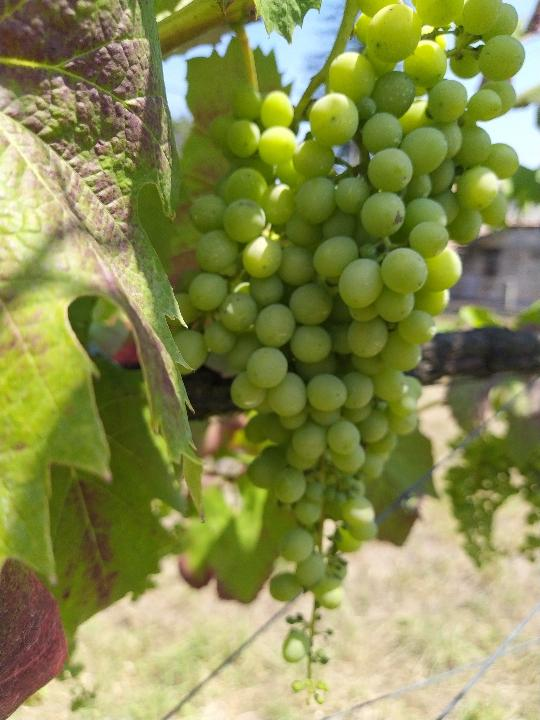grape: (166, 1, 527, 712)
